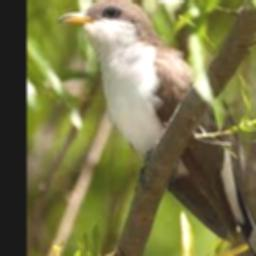Cuckoo: (57, 0, 256, 256)
